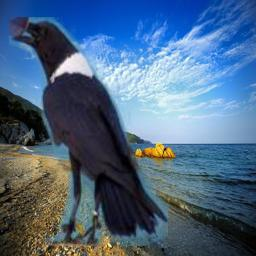Crow: (9, 17, 168, 246)
